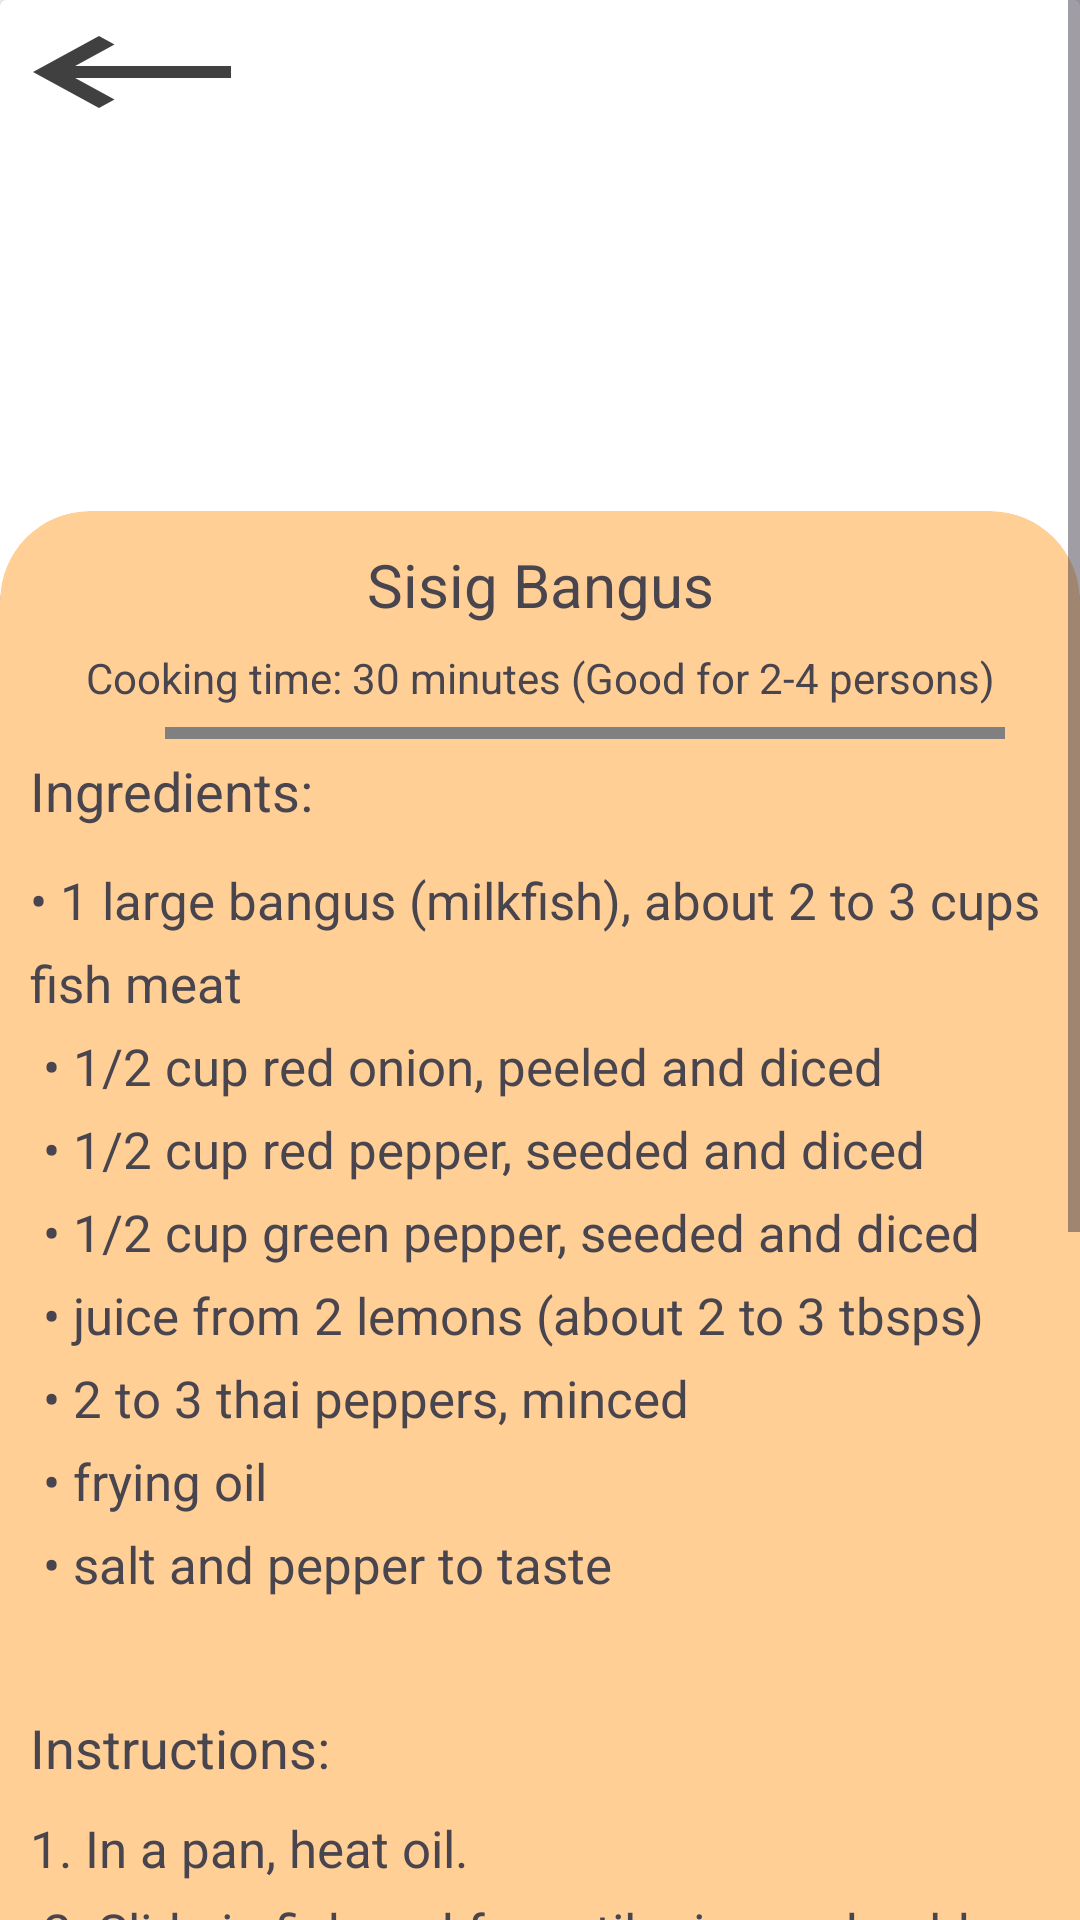

Where icons sit on this 1080×1920 app screen, as {"x1": x1, "y1": y1, "x2": x2, "y2": y2}:
keyboard backspace: {"x1": 0, "y1": 0, "x2": 231, "y2": 108}
